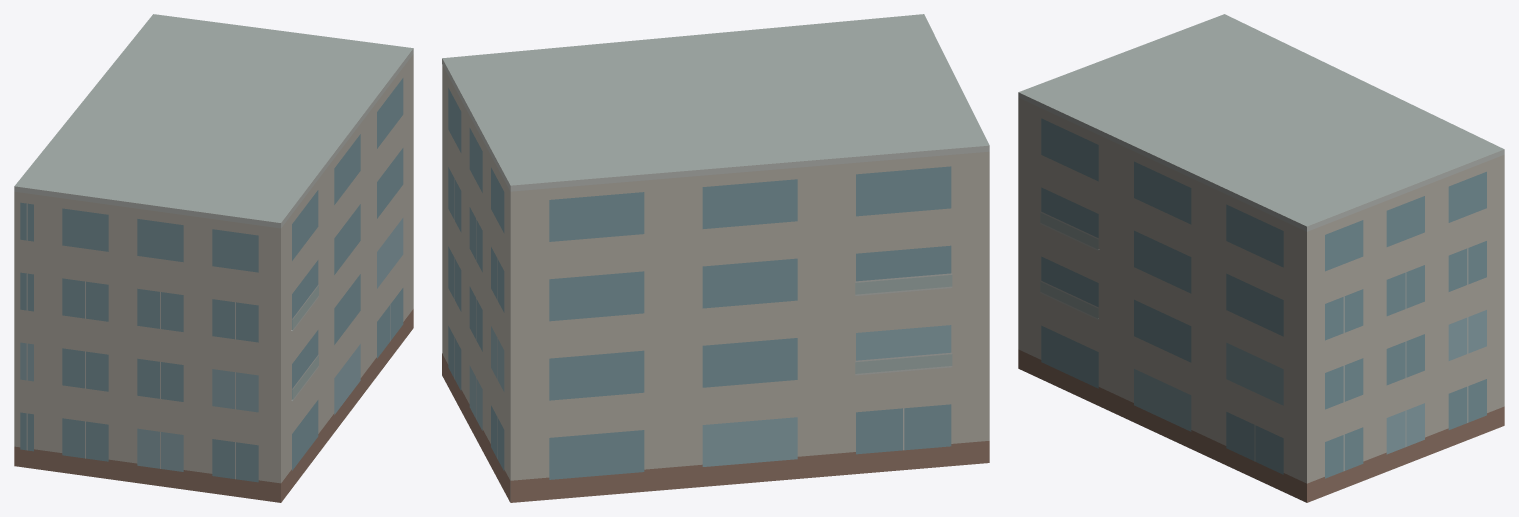
File: survey-upis-32838532.glb
3 renders of one model, left to right at view 1: azimuth 30°, elevation 25°; view 2: azimuth 150°, elevation 25°; view 3: azimuth 270°, elevation 25°, orthographic. The views are drawn at different scales.
Visible parts, largest first — view 1: survey-upis-32838532.tmp; view 2: survey-upis-32838532.tmp; view 3: survey-upis-32838532.tmp.
Boxes of the visible parts, left/top/right/bottom form: survey-upis-32838532.tmp: left=14, top=14, right=413, bottom=502; survey-upis-32838532.tmp: left=442, top=14, right=989, bottom=502; survey-upis-32838532.tmp: left=1018, top=14, right=1504, bottom=502.
Bounding box in the file's own units: 21.13 × 12.8 × 20.43.
